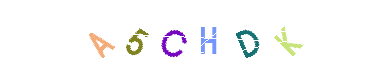5: (132, 0, 212, 80)
A: (96, 0, 176, 80)
C: (147, 0, 227, 80)
D: (166, 0, 246, 80)
H: (155, 0, 235, 80)
K: (207, 0, 287, 80)
